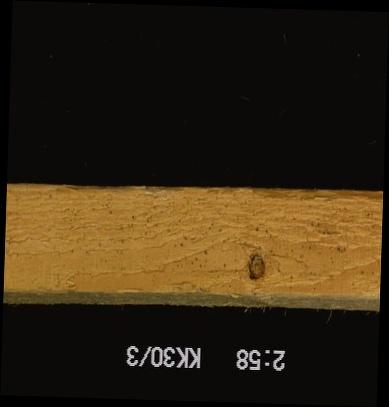wave: (5, 280, 379, 307), (7, 182, 181, 202), (251, 183, 381, 206)
